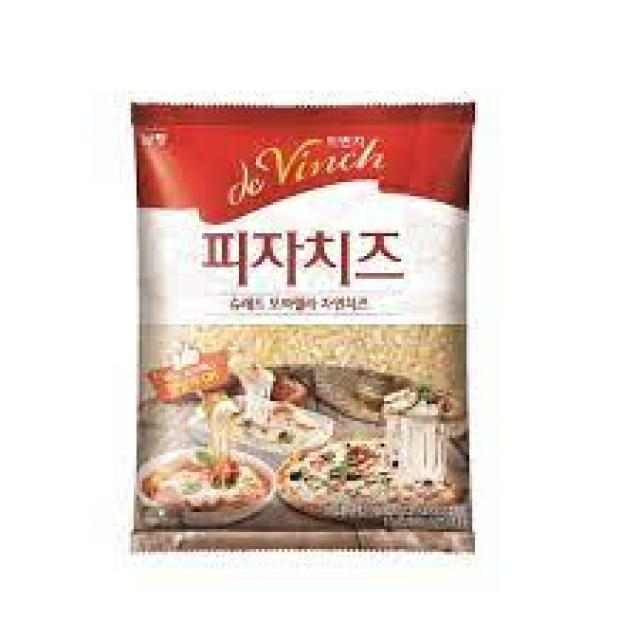Cheese: (128, 100, 475, 558)
